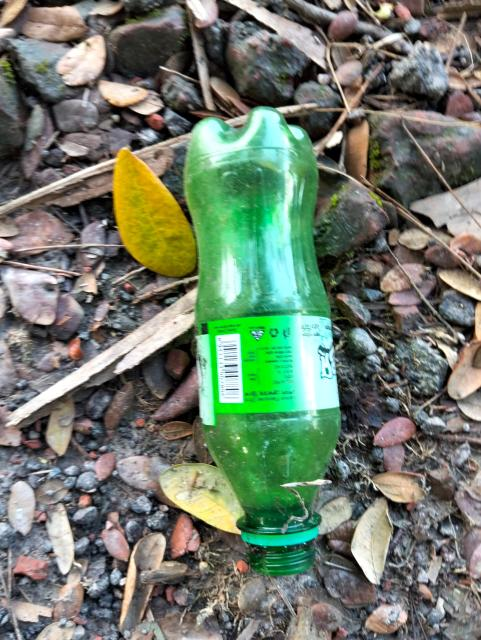bottle: (168, 106, 365, 584)
